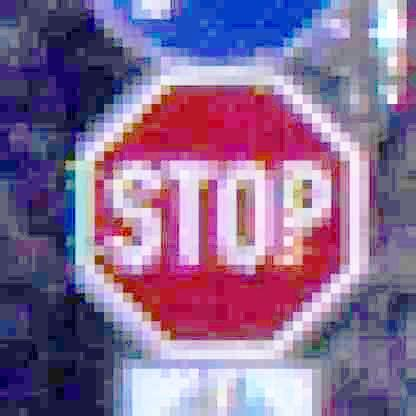Stop Sign: (77, 68, 375, 361)
